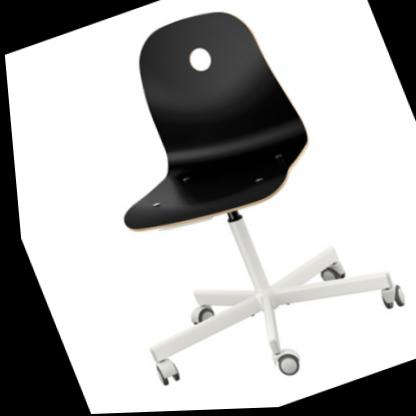Chair: (24, 0, 416, 415)
